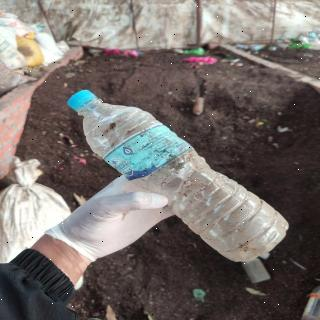Plastic-bottle: (62, 84, 294, 266)
